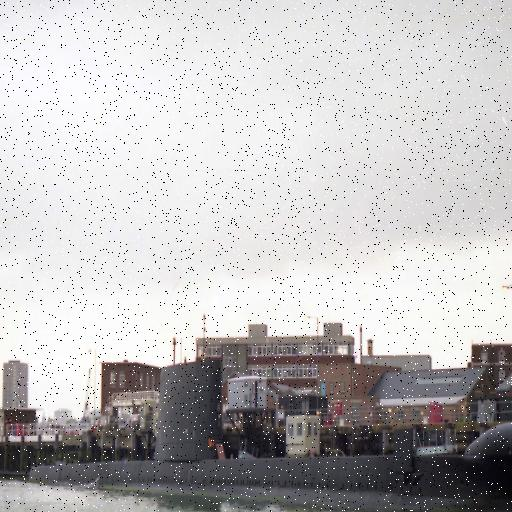submarine: (16, 354, 512, 512)
